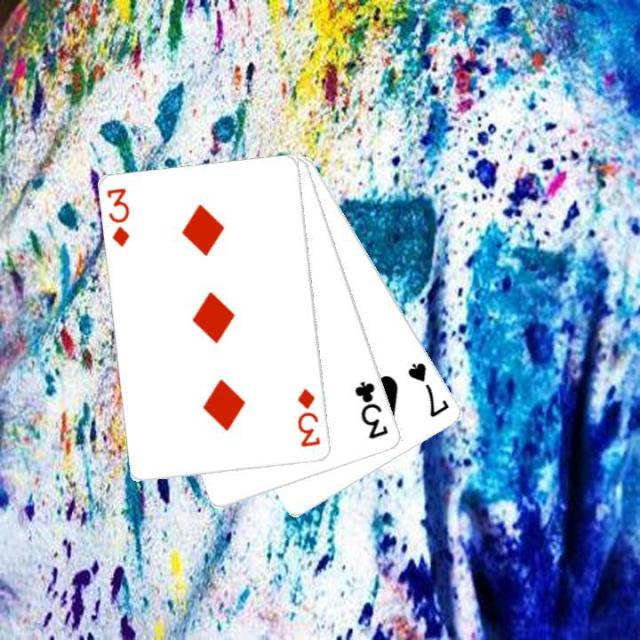3C: (351, 377, 391, 442)
3D: (103, 185, 133, 250), (294, 384, 323, 449)
7S: (404, 358, 452, 420)
